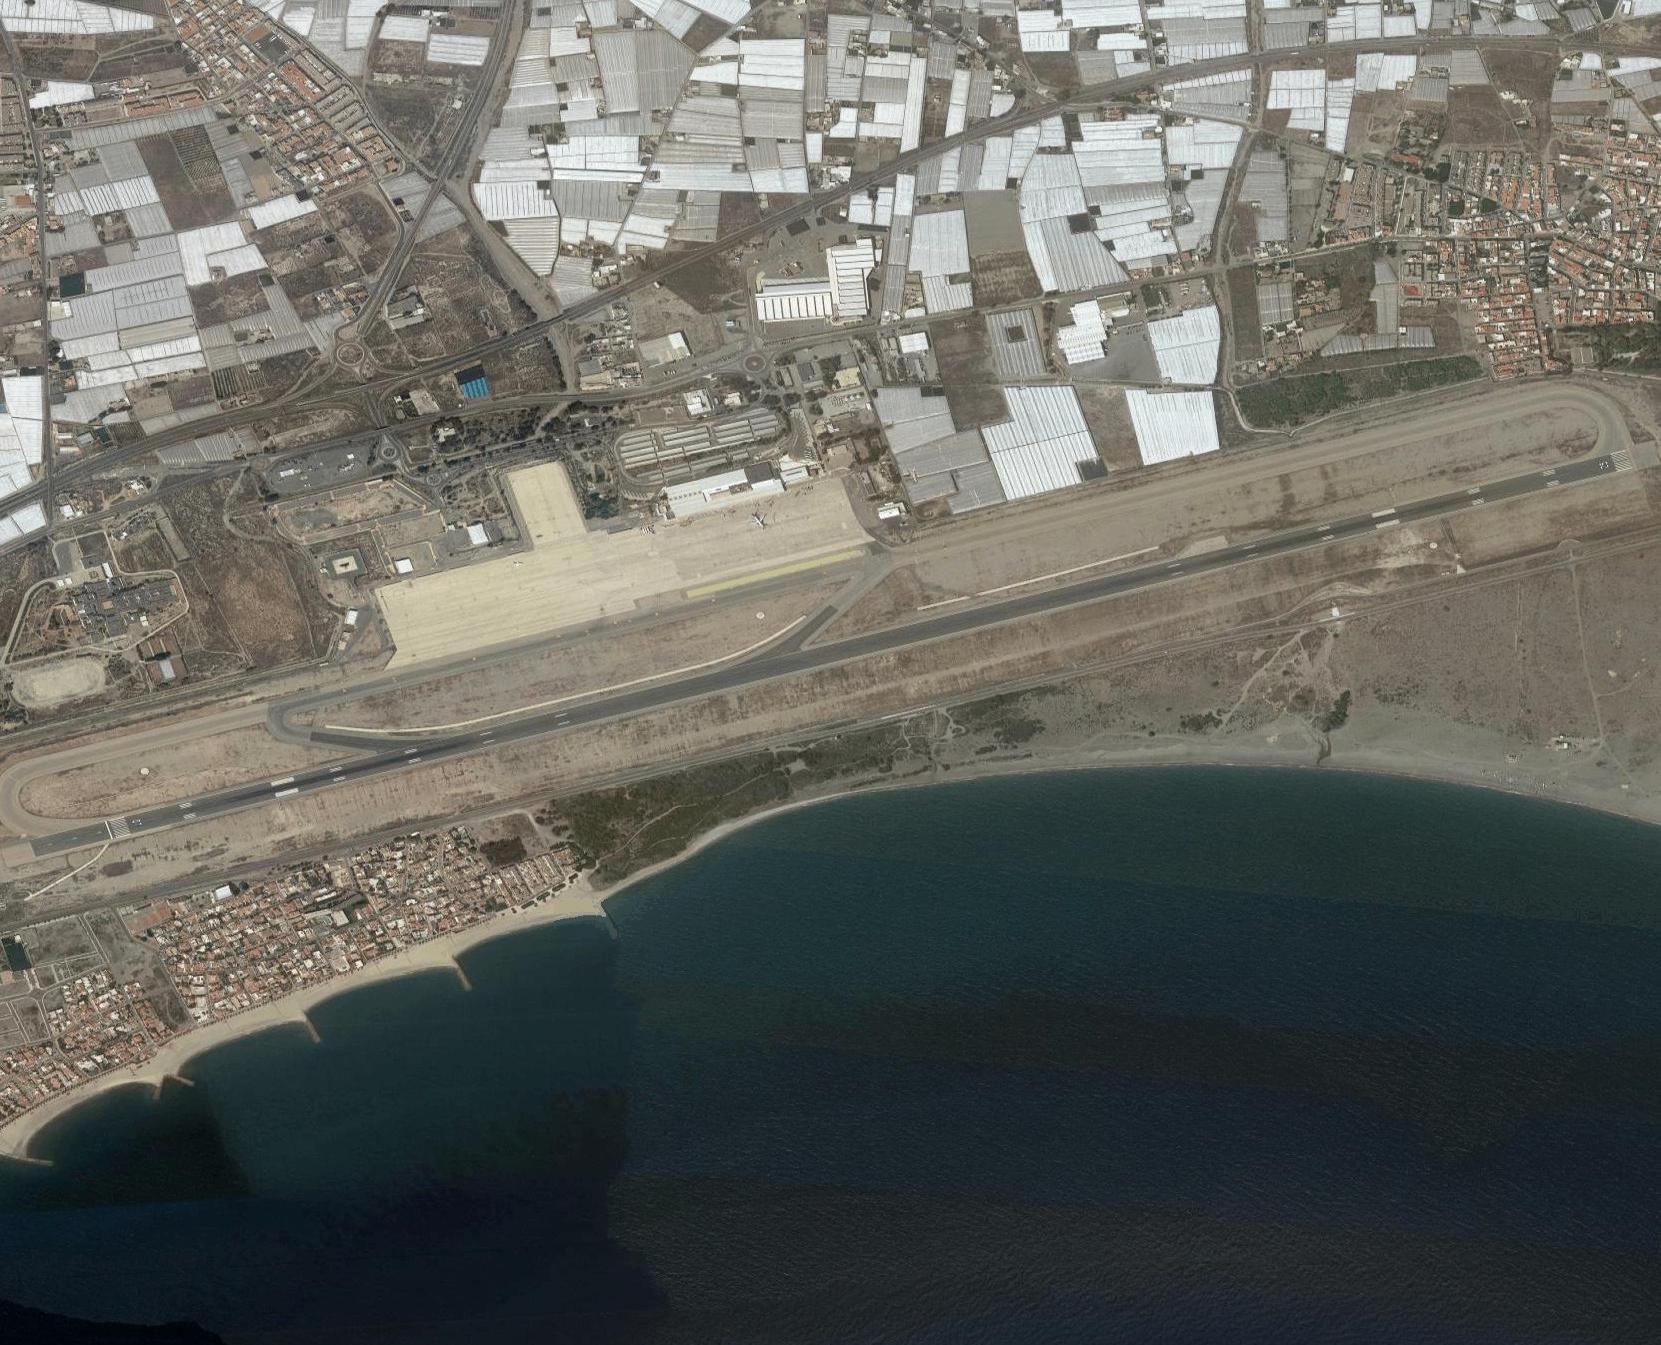airport: (5, 377, 1649, 881)
motorway: (442, 246, 717, 364), (706, 125, 966, 248), (318, 170, 453, 343), (965, 43, 1238, 124), (1235, 7, 1509, 86), (426, 1, 531, 166), (167, 349, 329, 438)
